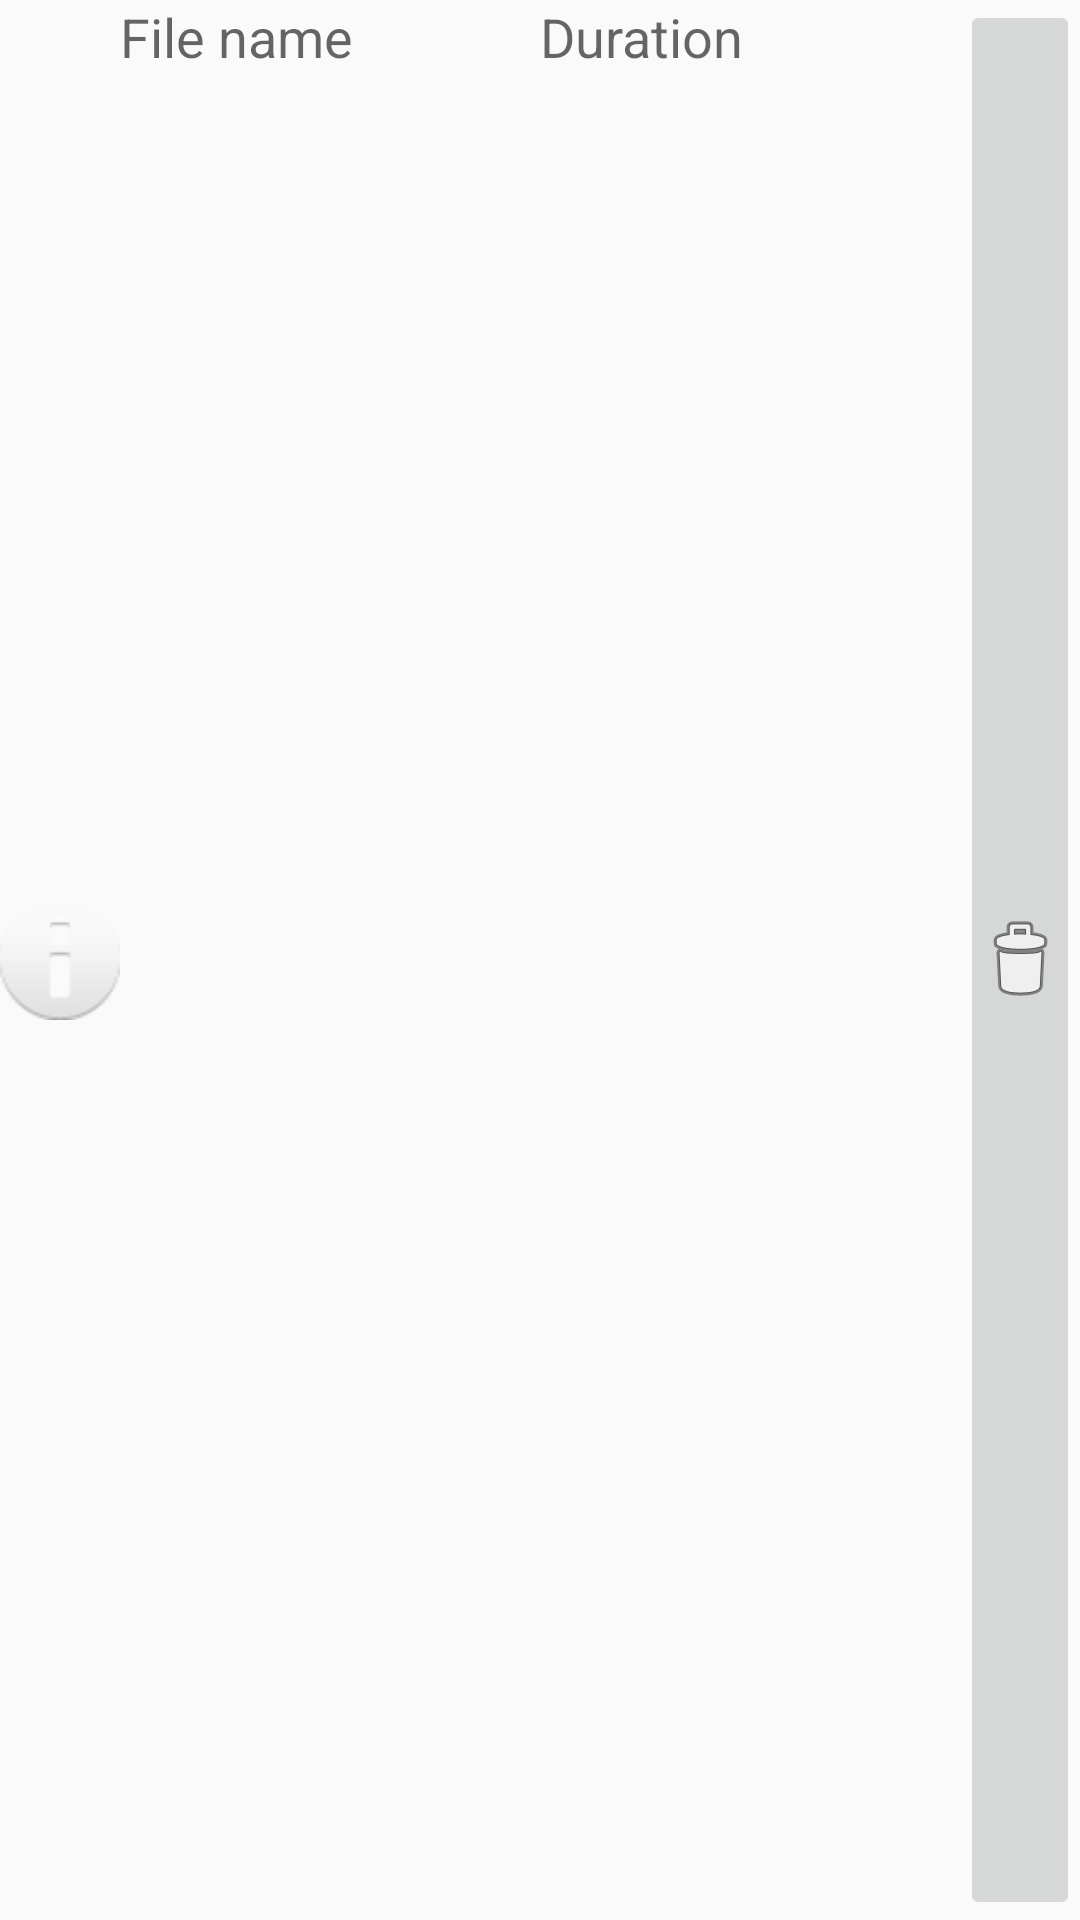

Named icons in this screenshot (1080px x 1920px) and their centers, (x,y):
info: (60,971)
